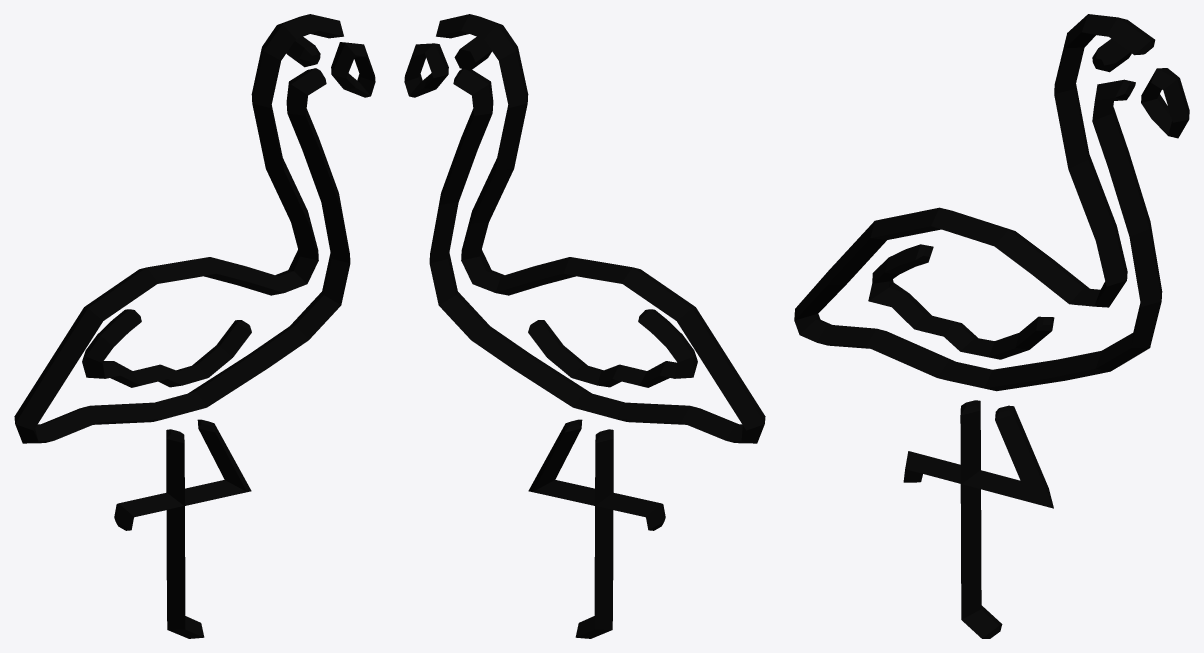
The model's file is SM_Prop_Casino_Neon_04.fbx.
The picture shows the model from 3 angles, left to right: view 1: azimuth 30°, elevation 25°; view 2: azimuth 150°, elevation 25°; view 3: azimuth 330°, elevation 25°; orthographic projection. The views are drawn at different scales.
Parts seen in each view (by area): view 1: SM_Prop_Casino_Neon_04; view 2: SM_Prop_Casino_Neon_04; view 3: SM_Prop_Casino_Neon_04.
Boxes of the visible parts, box(x1,y1,x2,y2) form: SM_Prop_Casino_Neon_04: box(14, 14, 375, 638); SM_Prop_Casino_Neon_04: box(404, 14, 765, 638); SM_Prop_Casino_Neon_04: box(794, 14, 1189, 638).
Bounding box in the file's own units: 71.87 × 114 × 8.07.
